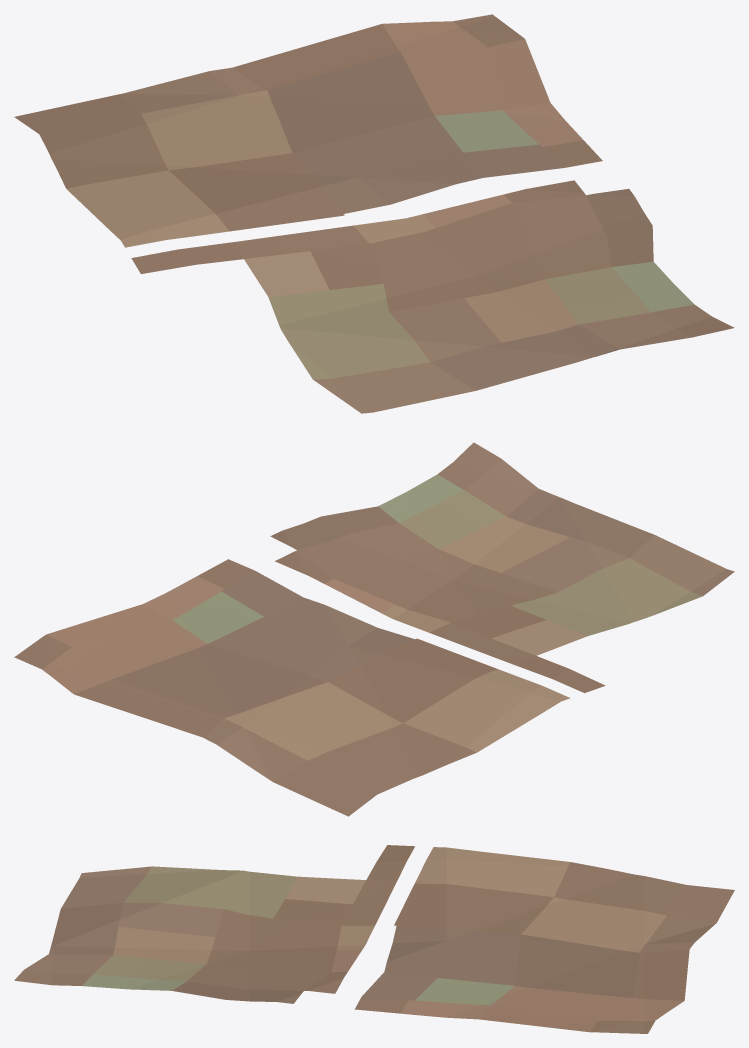
The model's file is farm_-4_19_soil.glb.
3 renders of one model, top to bottom at view 1: azimuth 30°, elevation 25°; view 2: azimuth 150°, elevation 25°; view 3: azimuth 270°, elevation 25°, orthographic. The views are drawn at different scales.
Visible parts, largest first — view 1: geometry_0; view 2: geometry_0; view 3: geometry_0.
Boxes of the visible parts, box(x1,y1,x2,y2) form: geometry_0: box(14, 14, 734, 413); geometry_0: box(14, 442, 734, 816); geometry_0: box(14, 845, 734, 1033).
Bounding box in the file's own units: 199 × 14.46 × 292.
